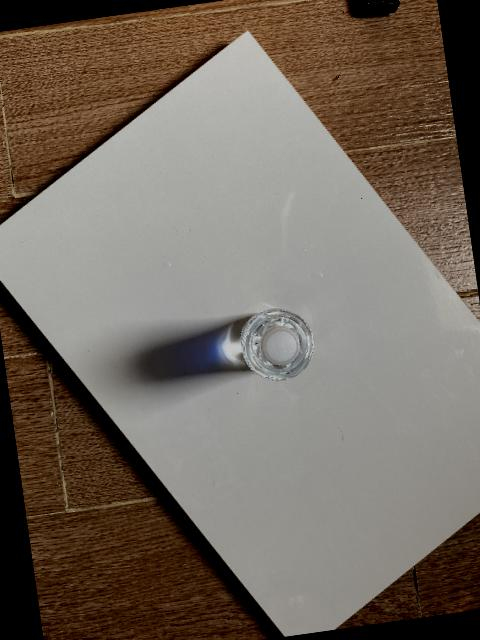aquafina: (239, 307, 314, 379)
